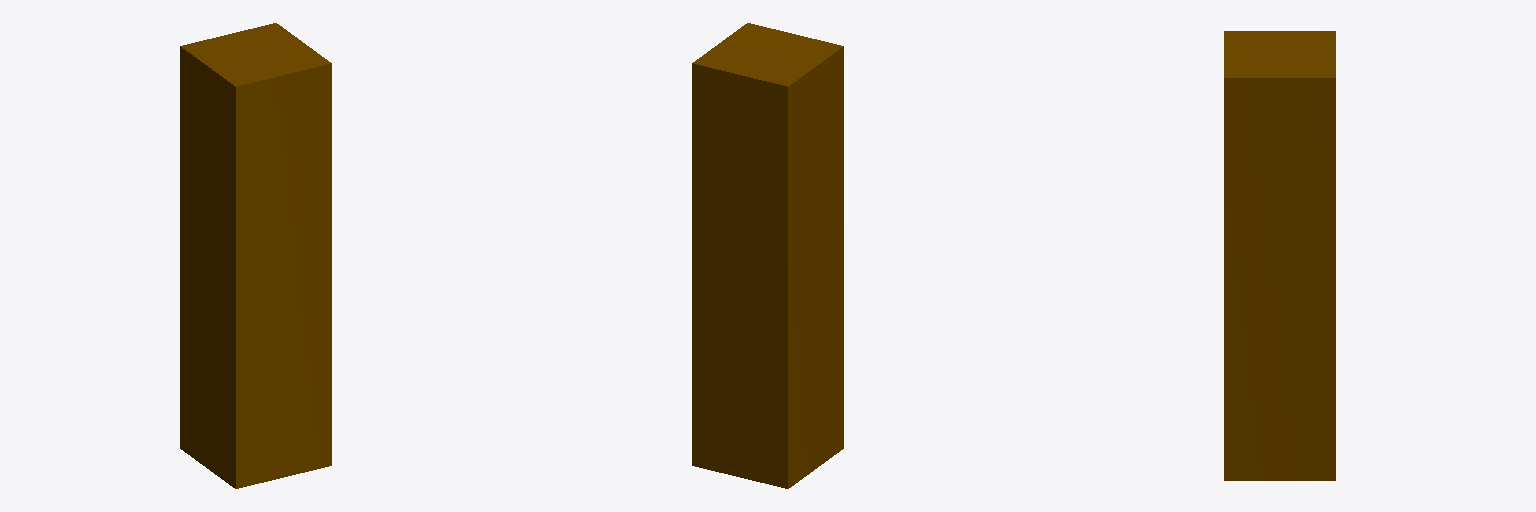
3 views of the same model, side by side, from view 1: azimuth 30°, elevation 25°; view 2: azimuth 150°, elevation 25°; view 3: azimuth 270°, elevation 25° (orthographic).
Visible parts, largest first — view 1: Cube; view 2: Cube; view 3: Cube.
Part boxes in pixels (x1,y1,x2,y2): Cube: (180,23,331,488); Cube: (692,23,843,488); Cube: (1224,31,1335,480).
Bounding box in the file's own units: 0.5 × 2 × 0.5.
1 materials, 1 textured.